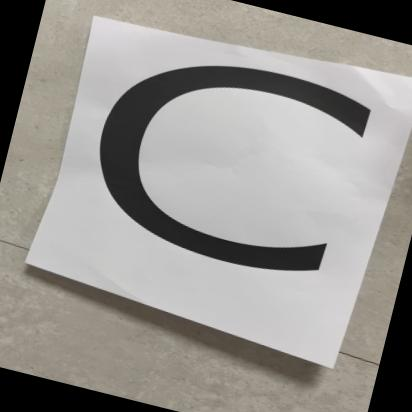seat: (41, 20, 410, 356)
